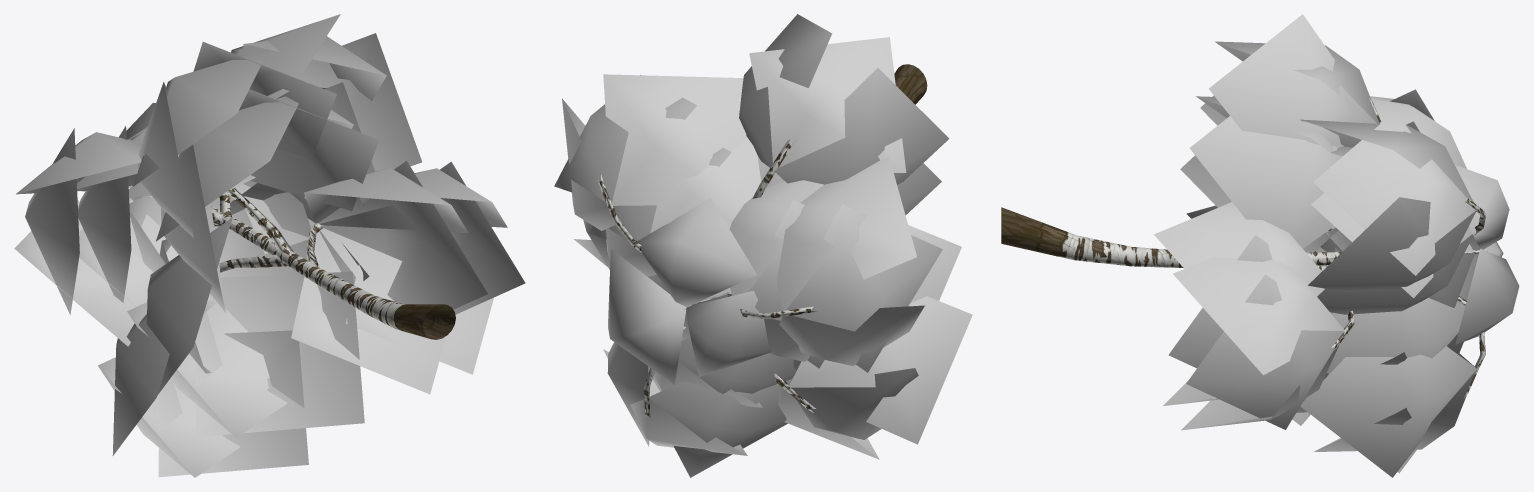
The model's file is Birch_tree2.fbx.
The picture shows the model from 3 angles, left to right: view 1: azimuth 30°, elevation 25°; view 2: azimuth 150°, elevation 25°; view 3: azimuth 270°, elevation 25°; orthographic projection. The views are drawn at different scales.
Parts seen in each view (by area): view 1: Birch_tree2; view 2: Birch_tree2; view 3: Birch_tree2.
Part boxes in pixels (x1,y1,x2,y2): Birch_tree2: (14,14,525,477); Birch_tree2: (554,14,972,477); Birch_tree2: (1001,14,1519,477).
Size of the model in its own units: 8.46 by 8.29 by 9.35.
